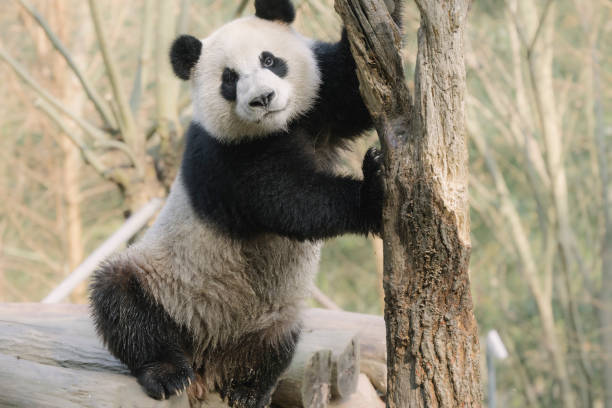panda: (159, 4, 366, 145)
